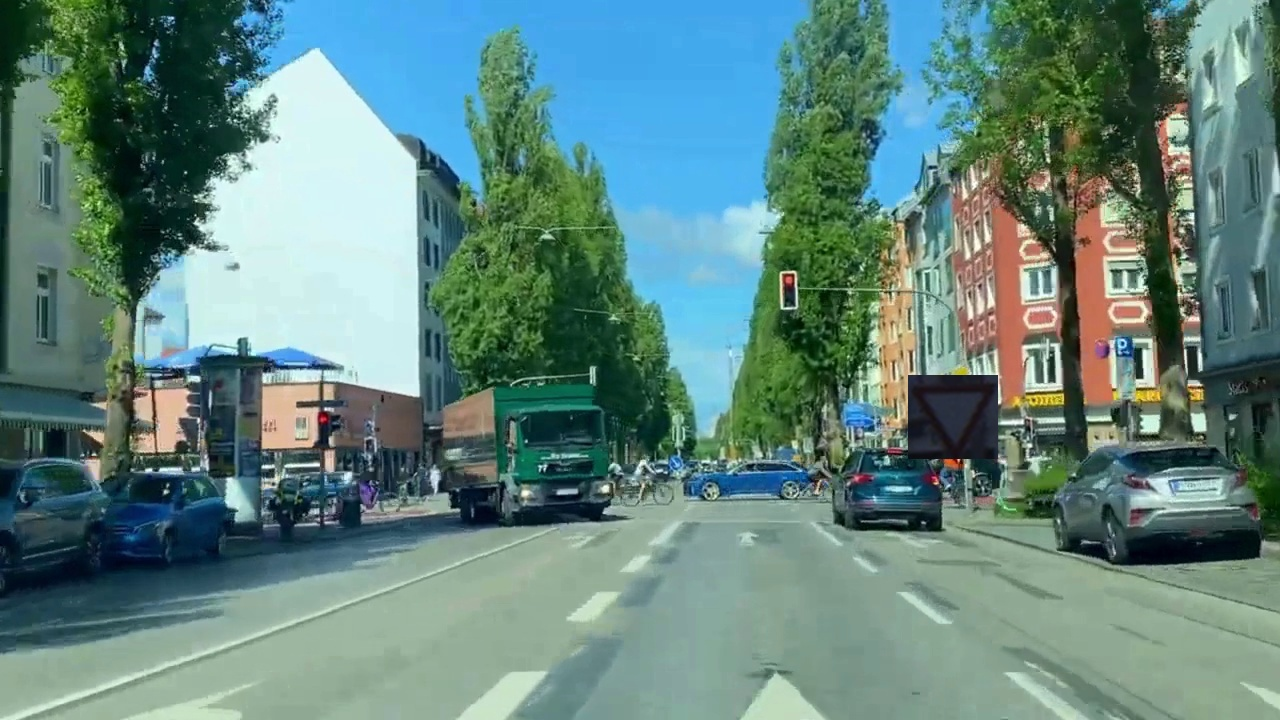Yield: (908, 375, 998, 459)
